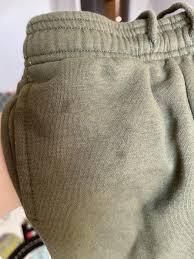mustard: (114, 144, 128, 162)
